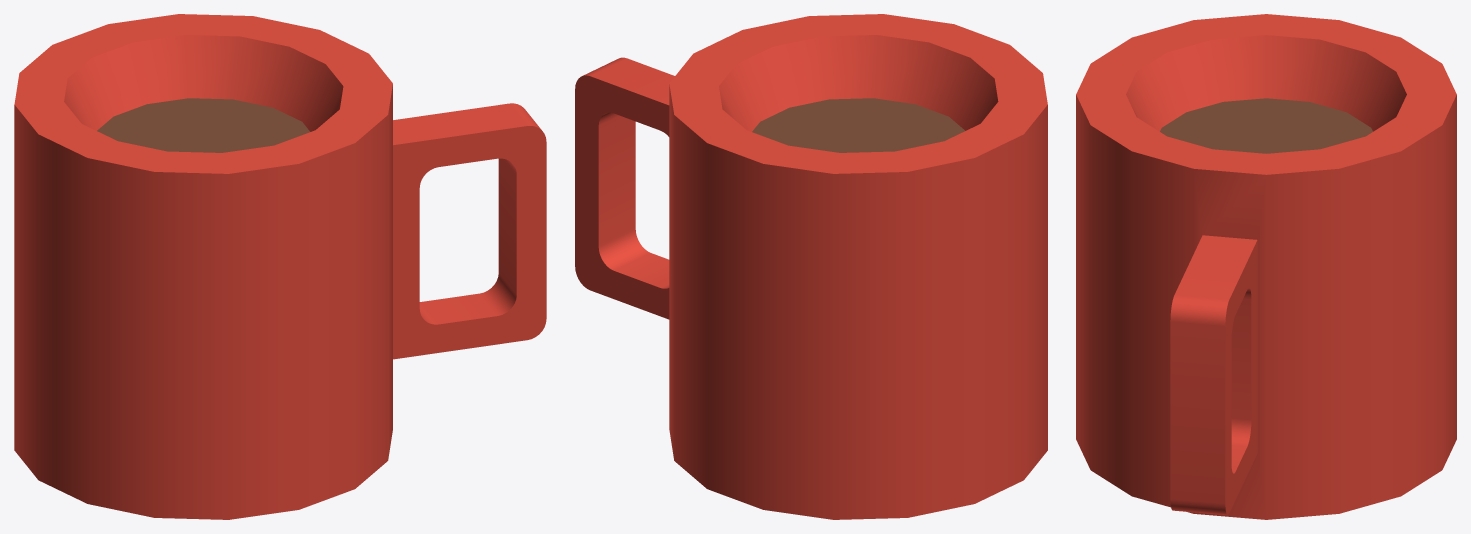
The model's file is Glass.fbx.
3 views of the same model, side by side, from view 1: azimuth 30°, elevation 25°; view 2: azimuth 150°, elevation 25°; view 3: azimuth 270°, elevation 25° (orthographic).
Parts seen in each view (by area): view 1: Glass.001; view 2: Glass.001; view 3: Glass.001.
Boxes of the visible parts, x1=… form: Glass.001: x1=14, y1=14, x2=546, y2=519; Glass.001: x1=575, y1=14, x2=1047, y2=519; Glass.001: x1=1076, y1=14, x2=1456, y2=519.
Size of the model in its own units: 0.1636 by 0.1152 by 0.1152.
